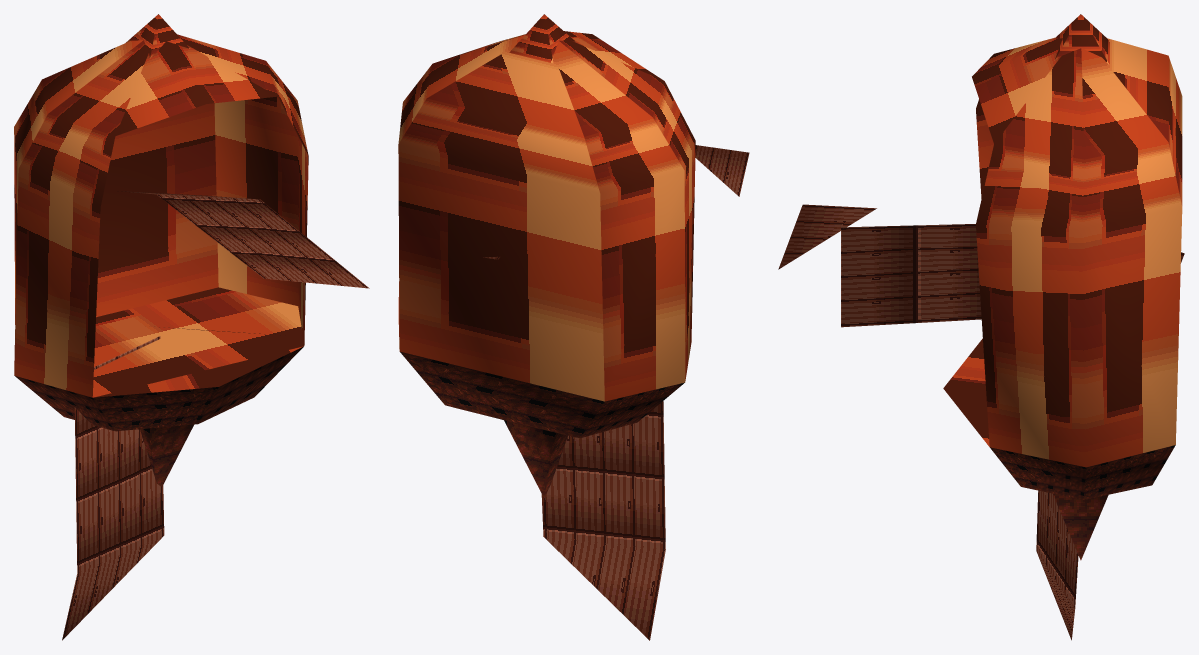
Rendered from 3180IMFY06_02.gltf.
3 renders of one model, left to right at view 1: azimuth 30°, elevation 25°; view 2: azimuth 150°, elevation 25°; view 3: azimuth 270°, elevation 25°, orthographic. The views are drawn at different scales.
Parts seen in each view (by area): view 1: 3180IMFY06_02; view 2: 3180IMFY06_02; view 3: 3180IMFY06_02.
Part boxes in pixels (<box>): 3180IMFY06_02: <box>14,14,369,640</box>; 3180IMFY06_02: <box>398,14,749,640</box>; 3180IMFY06_02: <box>778,14,1184,640</box>.
Size of the model in its own units: 1.35 by 2.71 by 1.46.
3 materials, 3 textured.
